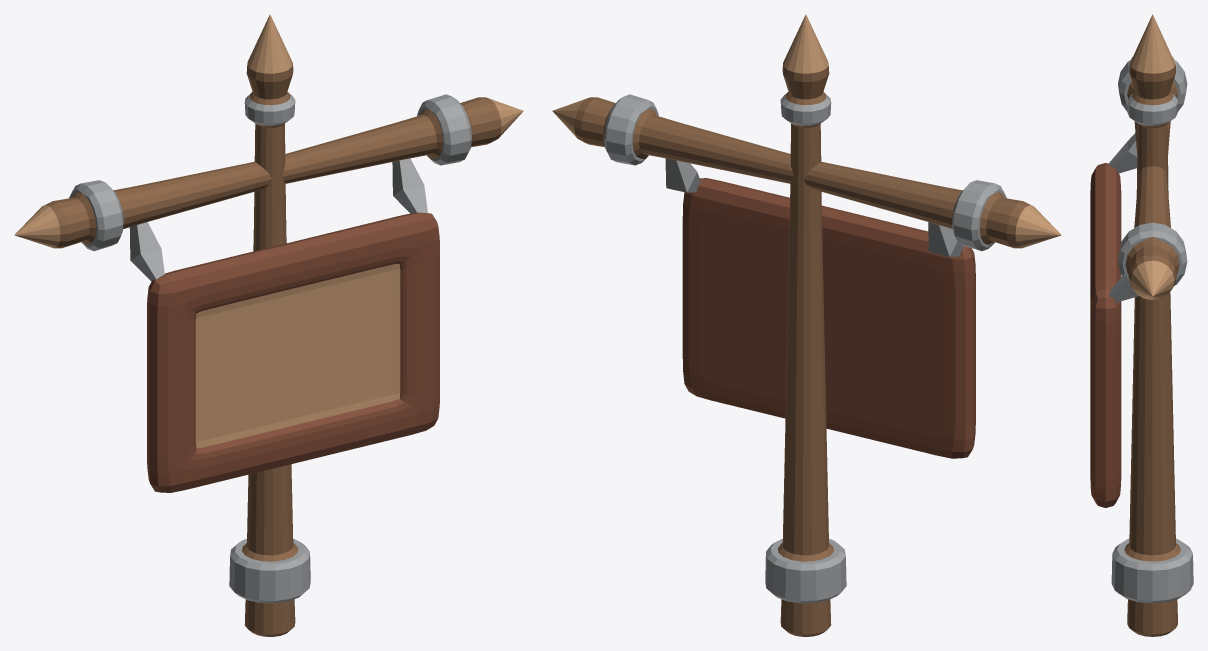
File: env-signboard.fbx
3 views of the same model, side by side, from view 1: azimuth 30°, elevation 25°; view 2: azimuth 150°, elevation 25°; view 3: azimuth 270°, elevation 25° (orthographic).
Parts seen in each view (by area): view 1: Cube.313; view 2: Cube.313; view 3: Cube.313.
Part boxes in pixels (left/top/right/bottom): Cube.313: left=14, top=14, right=523, bottom=636; Cube.313: left=552, top=14, right=1061, bottom=636; Cube.313: left=1090, top=14, right=1193, bottom=636.
Bounding box in the file's own units: 406 × 468 × 71.38.
